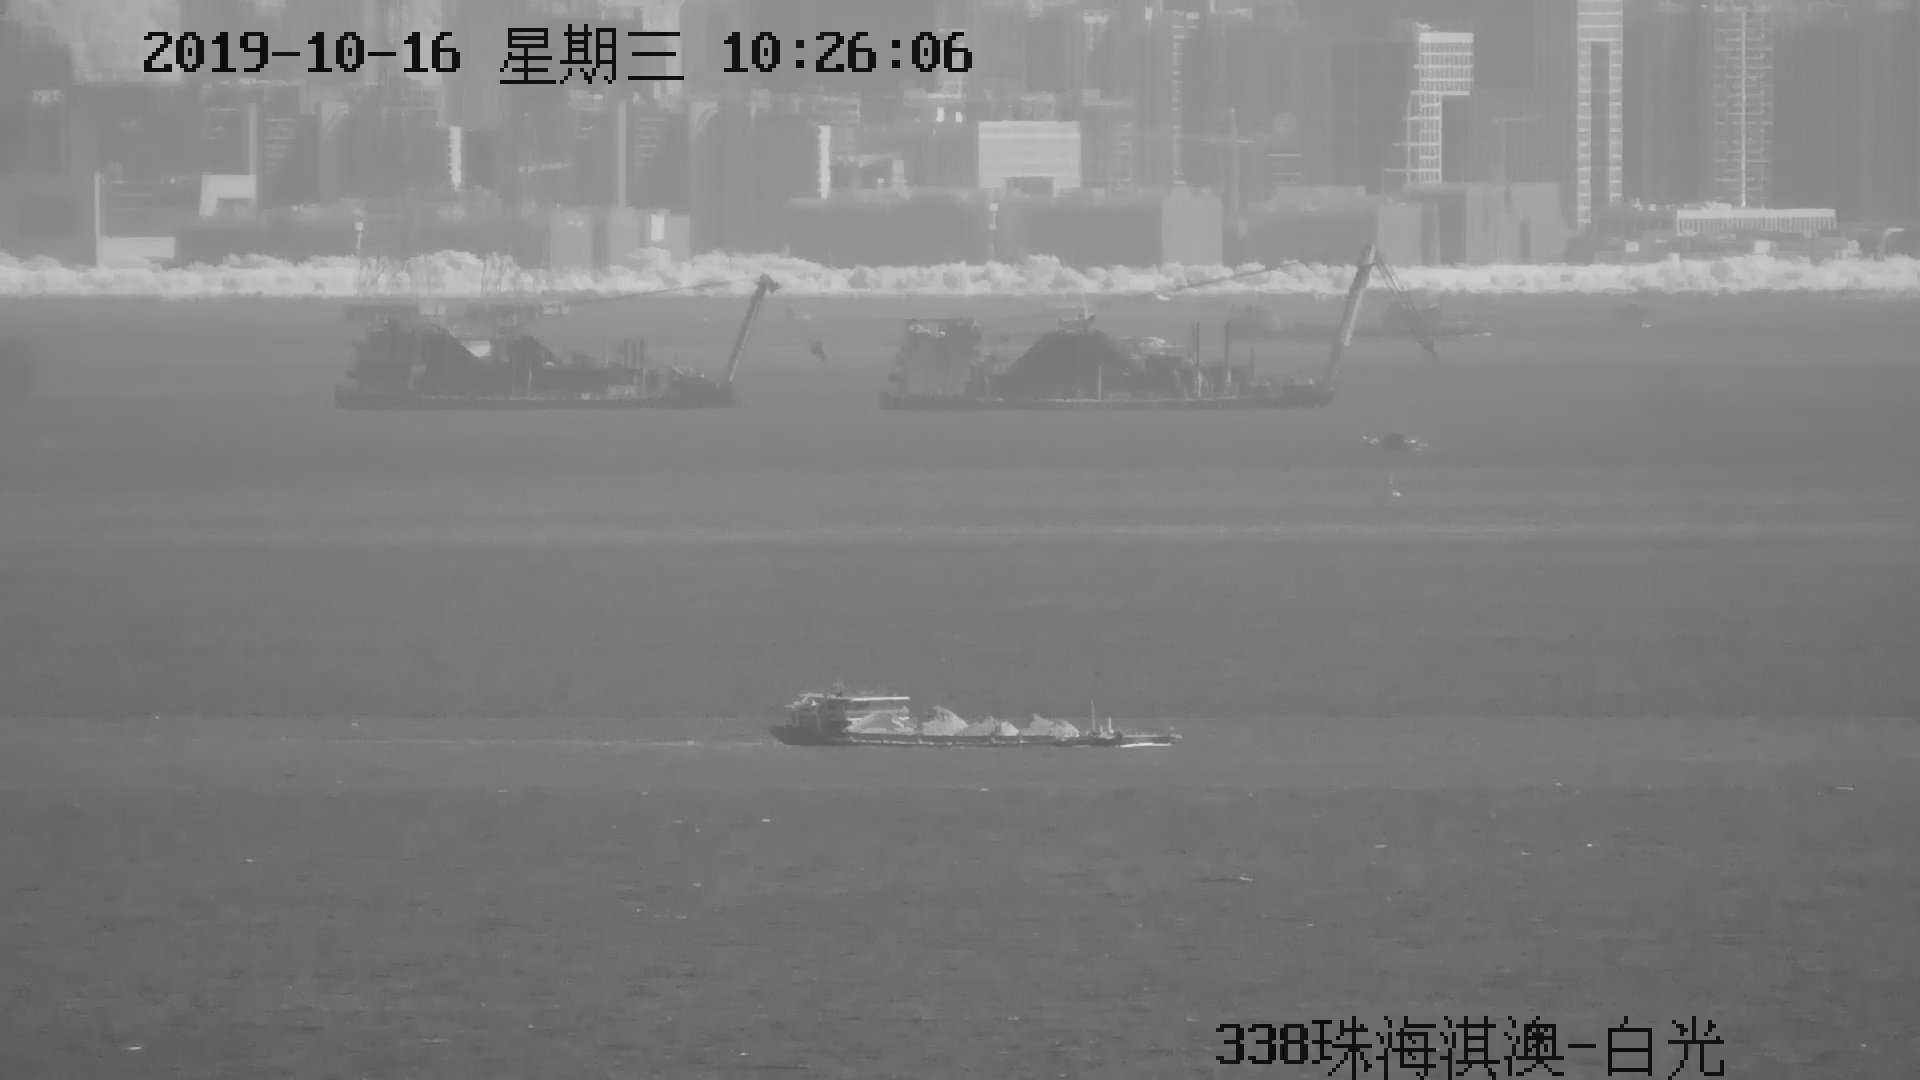ship: (766, 683, 1182, 752)
